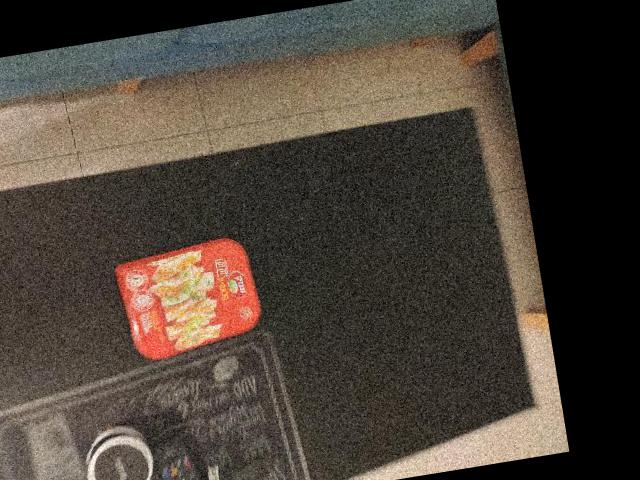cheese: (96, 228, 262, 361)
